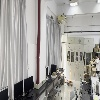fire: (68, 69, 72, 83)
